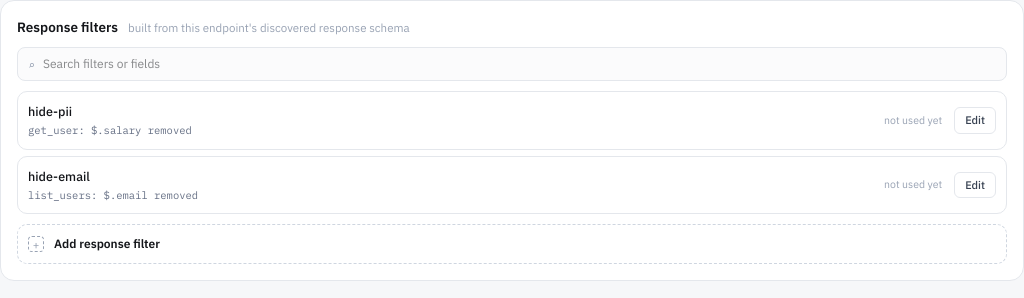
Test: ResponseFilterGroup › the list search narrows filters by name, tool, or dropped field — separate from the per-form field picker search
Expected: the text "hide-pii" is shown, left=28, top=103, right=72, bottom=119
Expected: the text "hide-email" is shown, left=28, top=168, right=90, bottom=184
Type "salary" into the field with placeholder "Search filters or fields".
click(519, 64); type("salary")  # box left=43, top=48, right=996, bottom=80
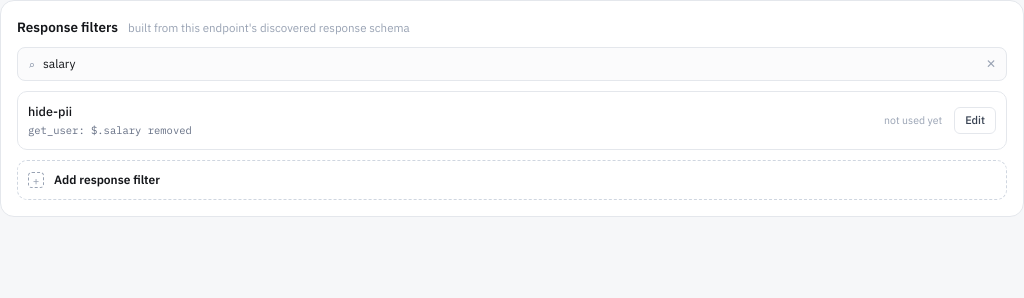
Expected: the text "hide-pii" is shown, left=28, top=103, right=72, bottom=119
Result: the text "hide-email" is gone
Clear the field with placeholder "Search filters or fields" at point(510, 64), box left=43, top=48, right=978, bottom=80
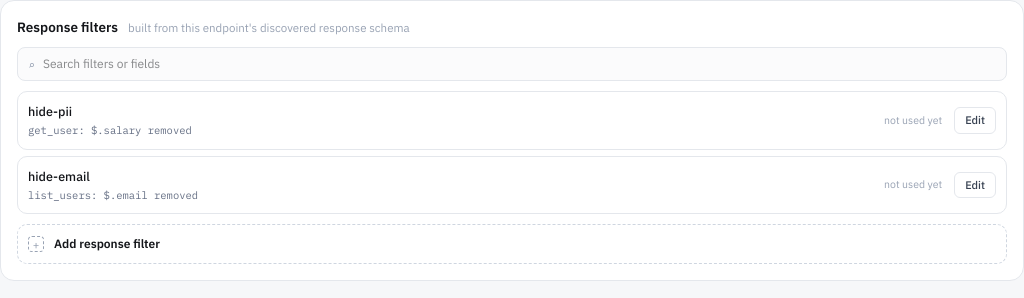
Type "nope" into the field with placeholder "Search filters or fields".
click(519, 64); type("nope")  # box left=43, top=48, right=996, bottom=80
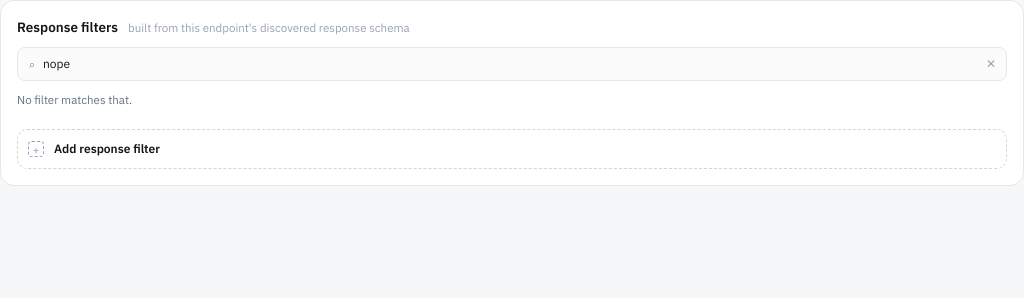
Result: the text "No filter matches that." is shown at left=17, top=92, right=132, bottom=107
